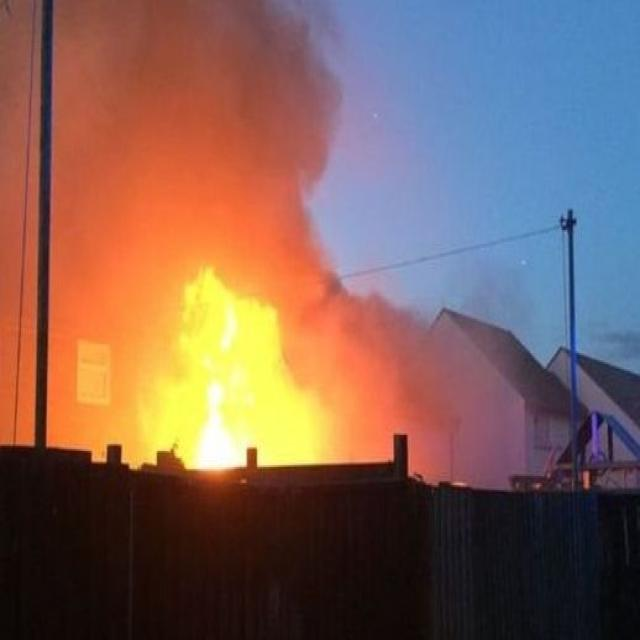Fire: (165, 315, 291, 476)
Smoke: (2, 19, 446, 471)
